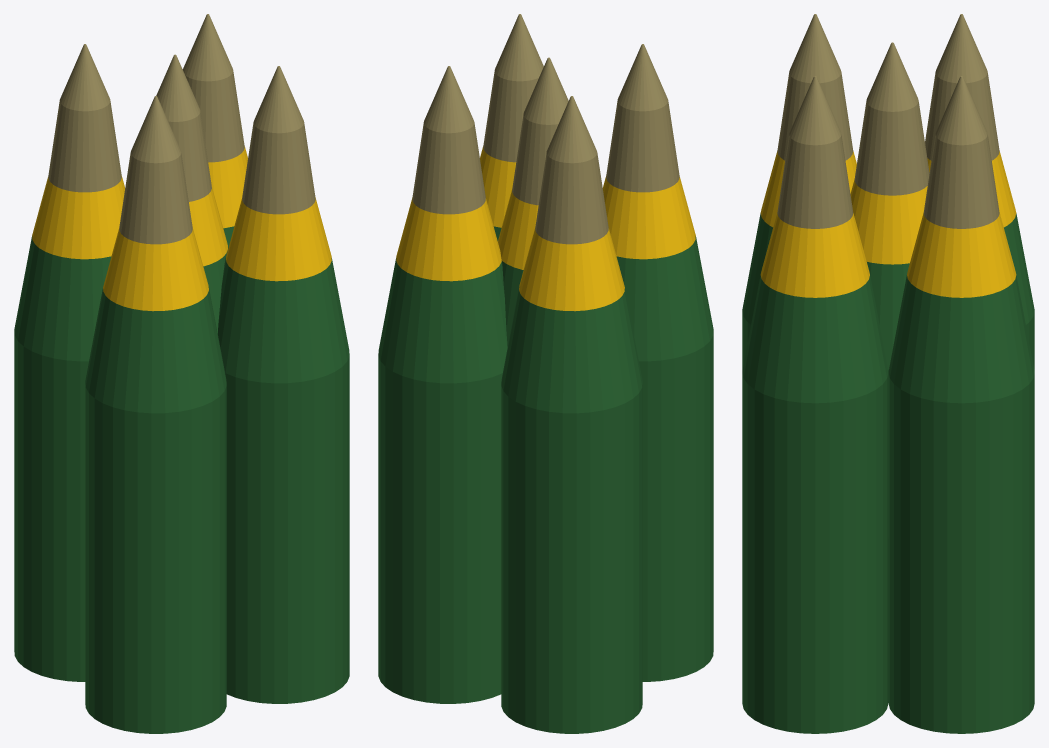
The model's file is bullet.fbx.
The picture shows the model from 3 angles, left to right: view 1: azimuth 30°, elevation 25°; view 2: azimuth 150°, elevation 25°; view 3: azimuth 270°, elevation 25°; orthographic projection. The views are drawn at different scales.
Visible parts, largest first — view 1: Cylinder.001; view 2: Cylinder.001; view 3: Cylinder.001.
Boxes of the visible parts, box(x1,y1,x2,y2) form: Cylinder.001: box(14, 14, 349, 733); Cylinder.001: box(378, 14, 713, 733); Cylinder.001: box(742, 14, 1034, 733).
Size of the model in its own units: 173 by 409 by 173.
Materials: 1 (1 with a texture image).
